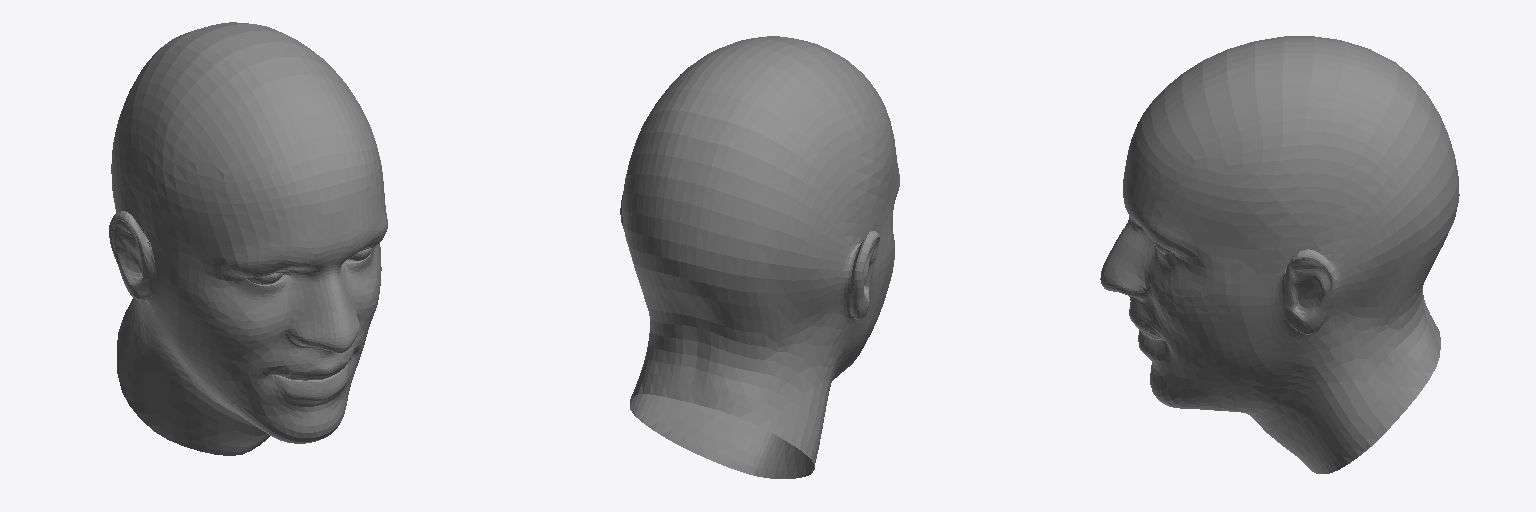
Rendered from obama.obj.
The picture shows the model from 3 angles: view 1: azimuth 30°, elevation 25°; view 2: azimuth 150°, elevation 25°; view 3: azimuth 270°, elevation 25°; orthographic projection.
Parts seen in each view (by area): view 1: skin_hi; view 2: skin_hi; view 3: skin_hi.
Part boxes in pixels (bbox=[...]): skin_hi: bbox=[109, 22, 387, 455]; skin_hi: bbox=[620, 36, 899, 478]; skin_hi: bbox=[1100, 36, 1459, 473].
Bounding box in the file's own units: 18.35 × 30.01 × 23.32.